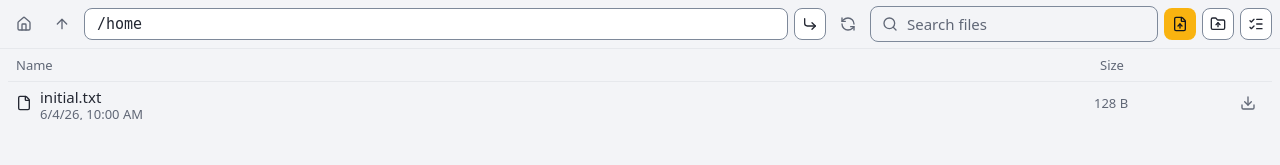
it: SshFileBrowserPanel › ignores stale directory responses from earlier navigation
Check: the text "initial.txt" is shown, box [40, 87, 101, 107]
Replace the text in the field named "Remote path" with "/slow" at (436, 24), box [84, 8, 788, 40]
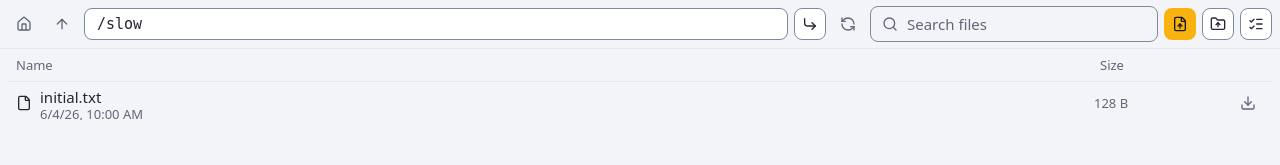
Click the button named "Go" at (810, 24), box [794, 8, 826, 40]
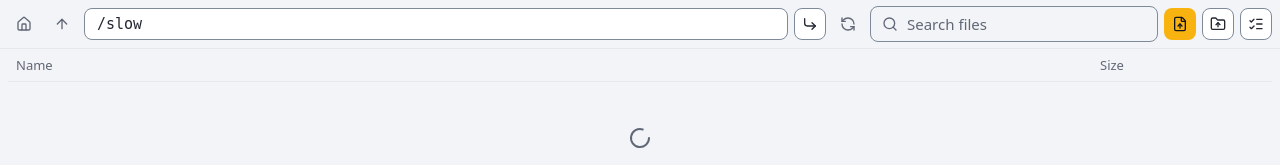
Replace the text in the field named "Remote path" with "/fast" at (436, 24), box [84, 8, 788, 40]
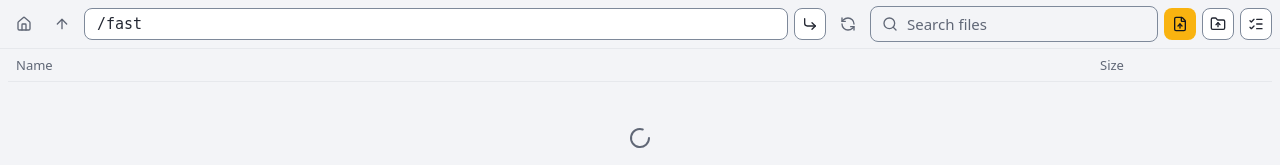
Click the button named "Go" at (810, 24), box [794, 8, 826, 40]
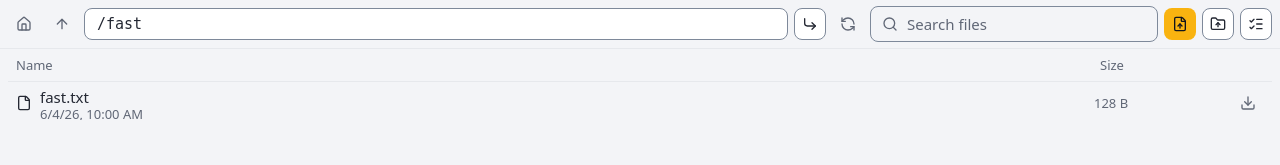
Check: the text "fast.txt" is shown, box [40, 87, 89, 107]
